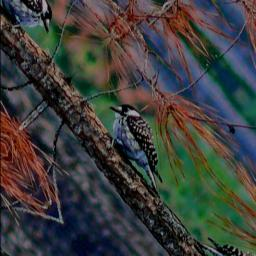Woodpecker: (81, 83, 195, 211)
